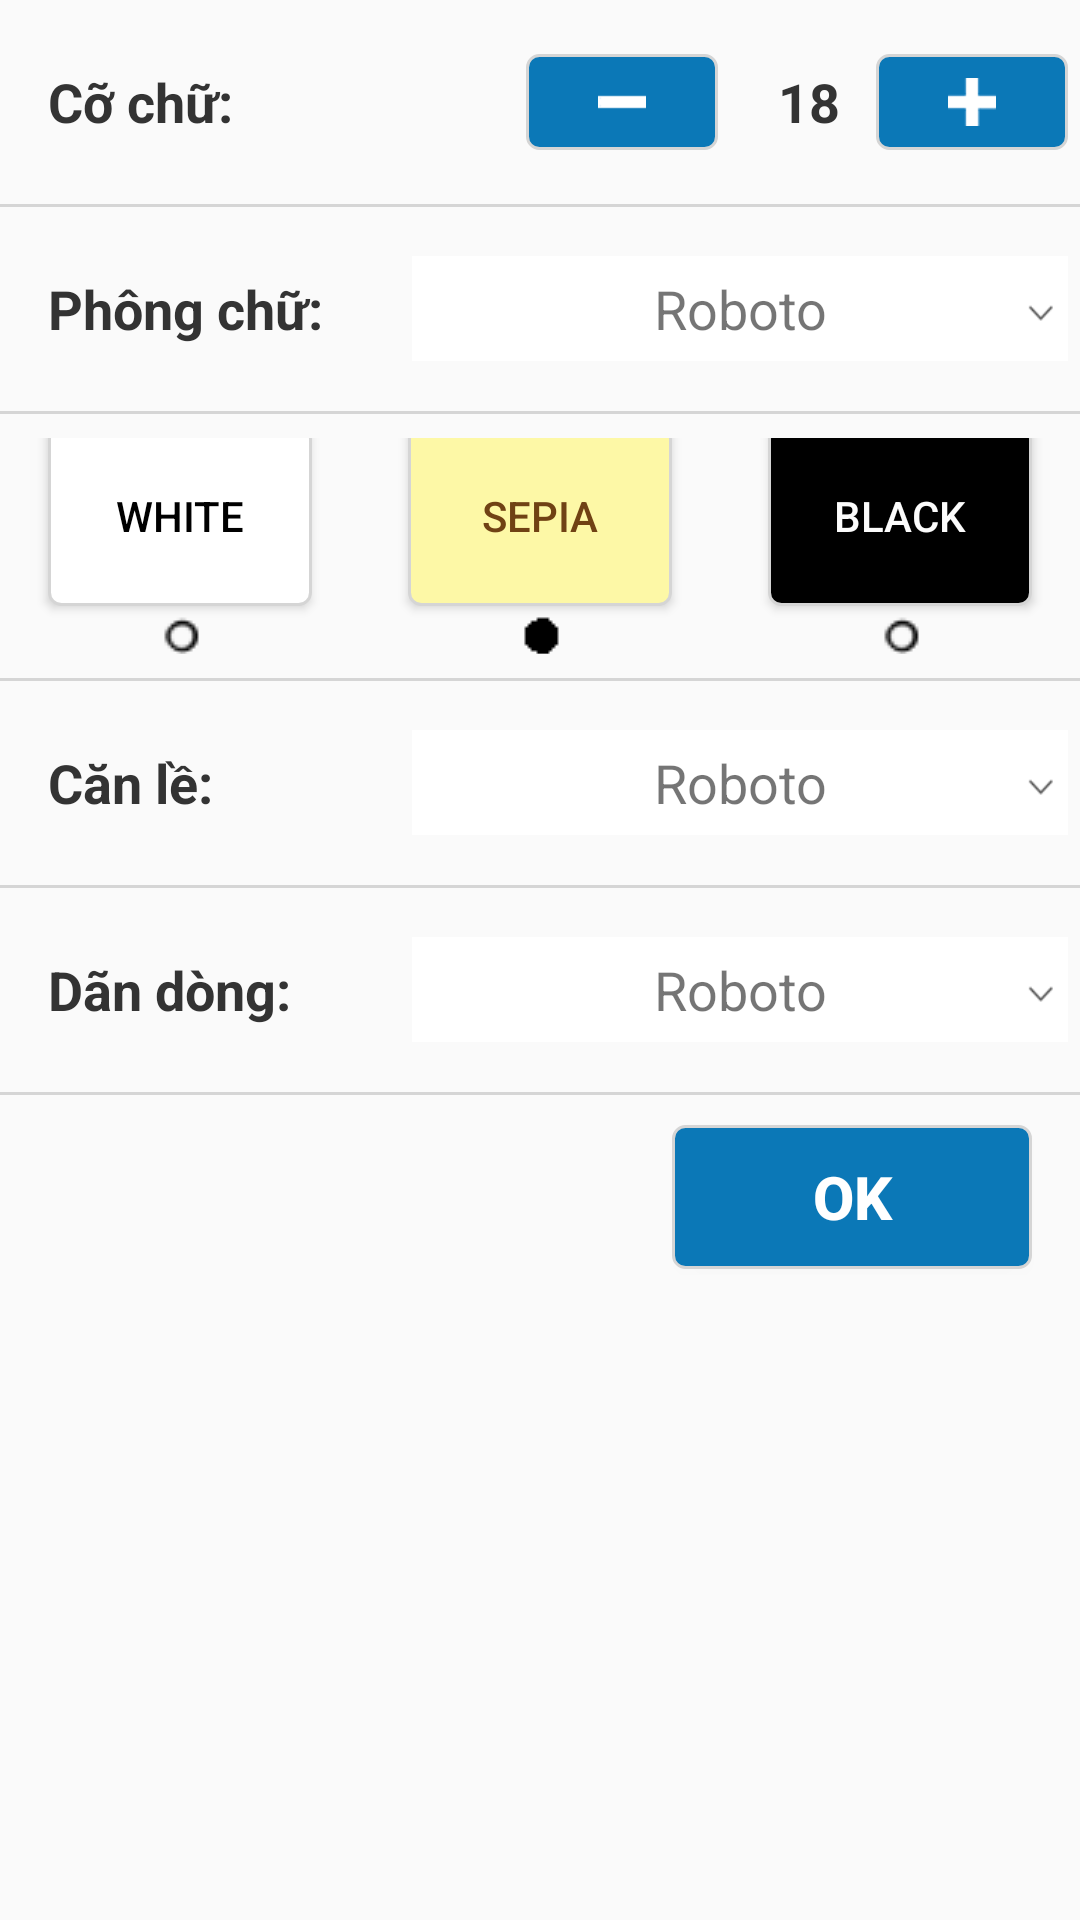

Icon click points for this 1080×1920 phone screenshot, format [x,y]:
minus: [622,102]
plus: [972,102]
